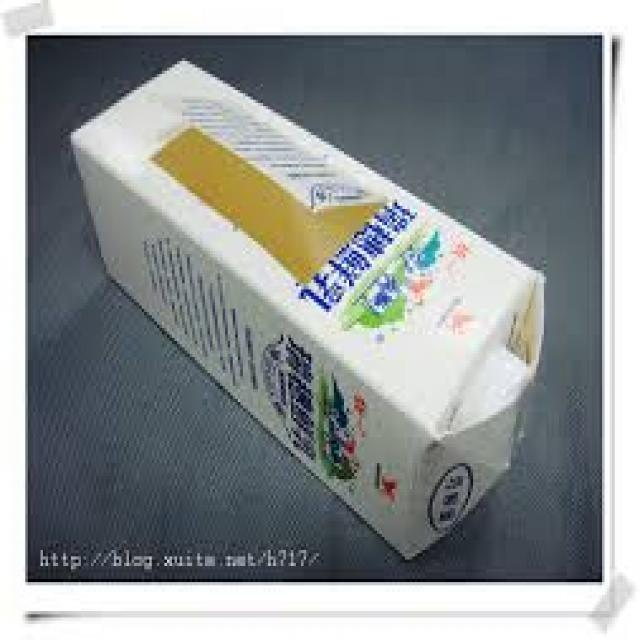non_white_jug: (69, 56, 548, 564)
